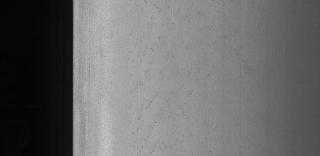silk spot: (126, 34, 182, 152)
